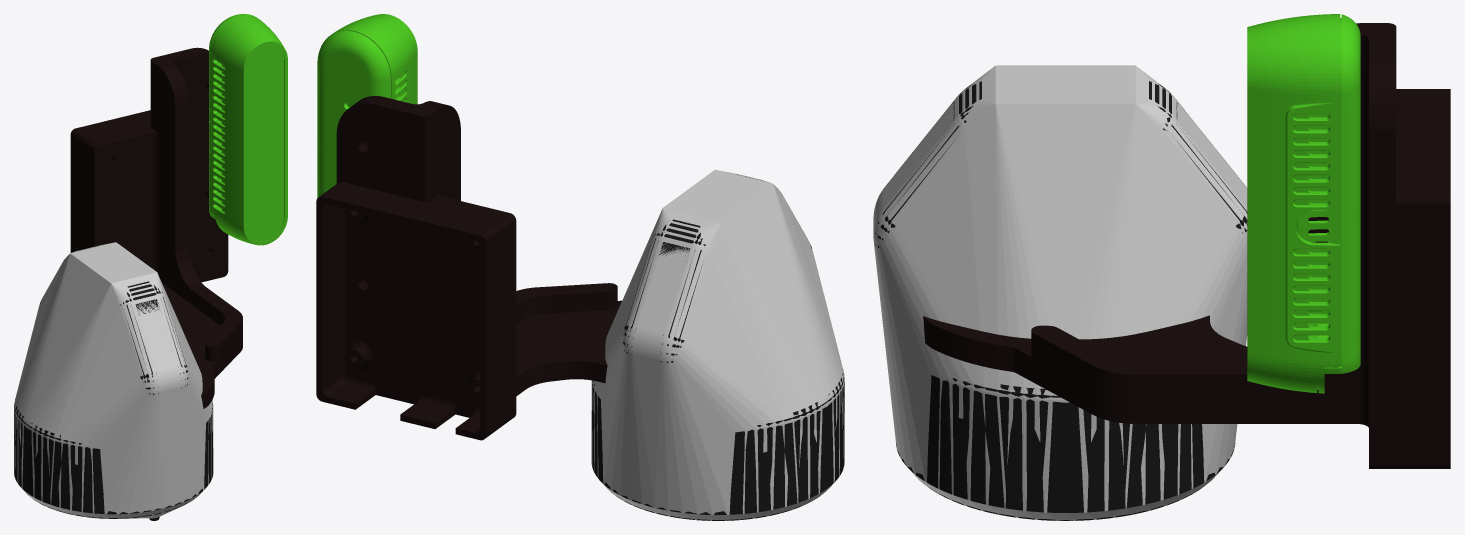
The model's file is something.obj.
3 views of the same model, side by side, from view 1: azimuth 30°, elevation 25°; view 2: azimuth 150°, elevation 25°; view 3: azimuth 270°, elevation 25° (orthographic). The views are drawn at different scales.
Visible parts, largest first — view 1: camera_holder_v2_camera_holder_v2.001, robotiq_arg2f_85_base_link_robotiq_arg2f_85_base_link.001; view 2: camera_holder_v2_camera_holder_v2.001, robotiq_arg2f_85_base_link_robotiq_arg2f_85_base_link.001; view 3: camera_holder_v2_camera_holder_v2.001, robotiq_arg2f_85_base_link_robotiq_arg2f_85_base_link.001.
Part boxes in pixels (x1=…): camera_holder_v2_camera_holder_v2.001: x1=14, y1=14, x2=287, y2=520; robotiq_arg2f_85_base_link_robotiq_arg2f_85_base_link.001: x1=14, y1=242, x2=213, y2=518; camera_holder_v2_camera_holder_v2.001: x1=316, y1=14, x2=844, y2=520; robotiq_arg2f_85_base_link_robotiq_arg2f_85_base_link.001: x1=591, y1=169, x2=844, y2=520; camera_holder_v2_camera_holder_v2.001: x1=875, y1=14, x2=1450, y2=520; robotiq_arg2f_85_base_link_robotiq_arg2f_85_base_link.001: x1=873, y1=65, x2=1247, y2=520.
Size of the model in its own units: 0.1393 by 0.1515 by 0.1274.
